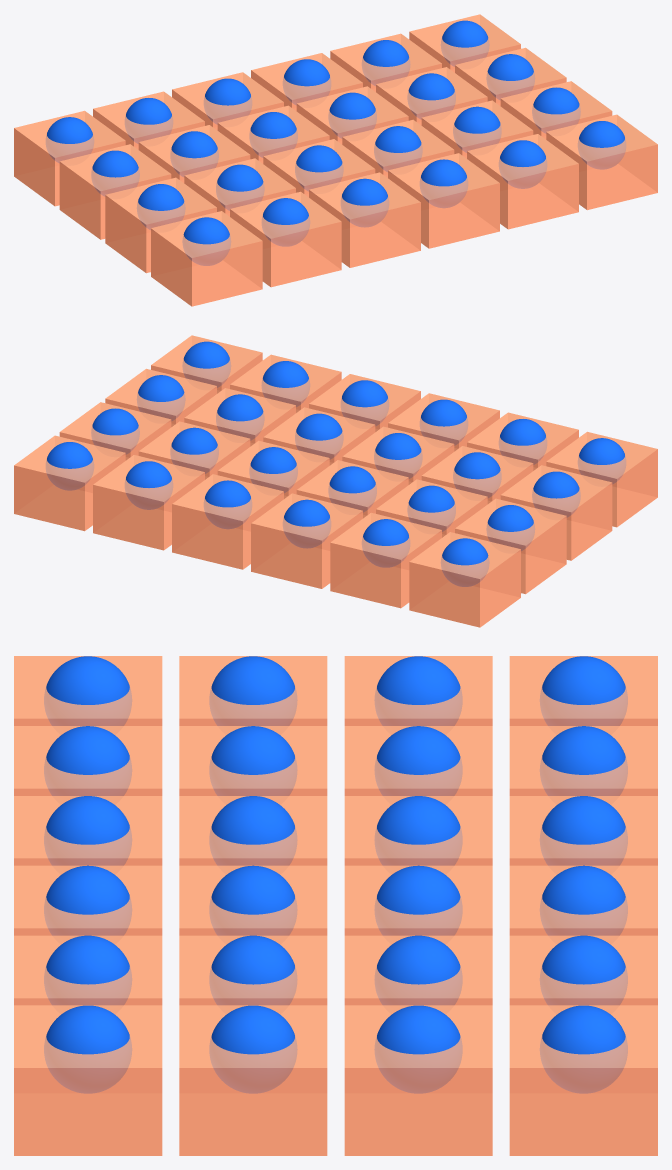
File: tissue.glb
The picture shows the model from 3 angles, top to bottom: view 1: azimuth 30°, elevation 25°; view 2: azimuth 150°, elevation 25°; view 3: azimuth 270°, elevation 25°; orthographic projection. The views are drawn at different scales.
Visible parts, largest first — view 1: b (×24), nucleus (×24); view 2: b (×24), nucleus (×24); view 3: b (×24), nucleus (×24).
Part boxes in pixels (x1,y1,x2,y2): b (×24): [14, 14, 657, 306]; nucleus (×24): [46, 20, 625, 265]; b (×24): [14, 335, 657, 627]; nucleus (×24): [46, 341, 625, 586]; b (×24): [14, 656, 657, 1155]; nucleus (×24): [44, 656, 627, 1092].
Bounding box in the file's own units: 0.342 × 0.0445 × 0.226.
